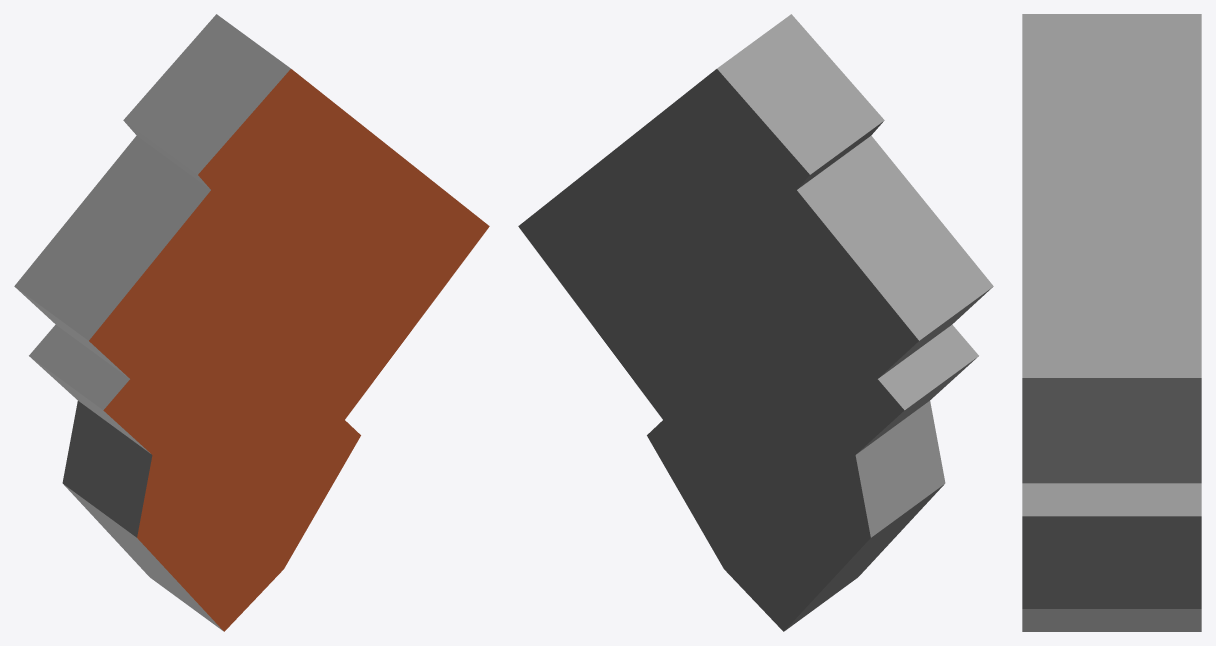
Rendered from construction_6424_assumed_A_Casa_h6m.obj.
The picture shows the model from 3 angles, left to right: view 1: azimuth 30°, elevation 25°; view 2: azimuth 150°, elevation 25°; view 3: azimuth 270°, elevation 25°; orthographic projection. The views are drawn at different scales.
Visible parts, largest first — view 1: construction_6424_assumed_A_Casa; view 2: construction_6424_assumed_A_Casa; view 3: construction_6424_assumed_A_Casa.
Boxes of the visible parts, <box> form: construction_6424_assumed_A_Casa: <box>14,14,489,631</box>; construction_6424_assumed_A_Casa: <box>518,14,993,631</box>; construction_6424_assumed_A_Casa: <box>1022,14,1201,631</box>.
Size of the model in its own units: 18.63 by 24.28 by 6.
